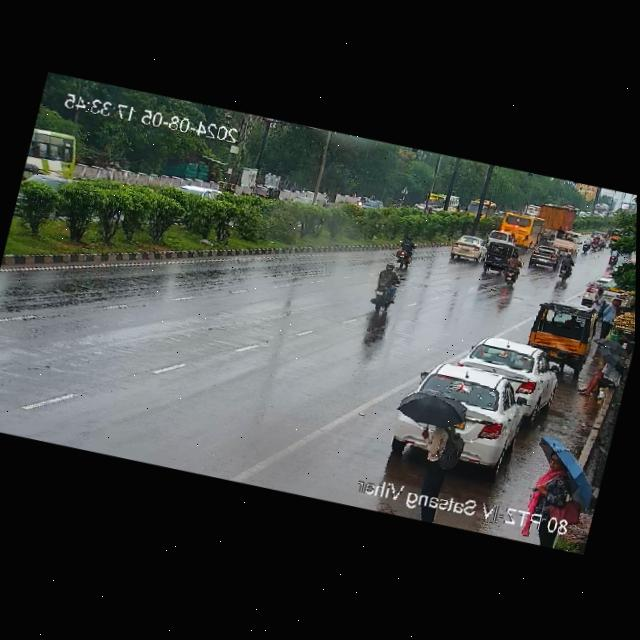bus: (23, 106, 91, 199), (501, 209, 546, 249), (423, 188, 461, 222), (465, 197, 496, 223)
car: (410, 358, 532, 448), (455, 334, 560, 415), (522, 294, 599, 367), (580, 269, 636, 311), (480, 239, 520, 279), (446, 230, 488, 264), (529, 242, 562, 272), (483, 227, 515, 248)
motorcycle: (362, 258, 405, 315), (387, 232, 420, 270), (577, 226, 613, 257), (499, 251, 525, 286), (556, 252, 577, 282), (605, 248, 620, 268)
person: (525, 441, 577, 521), (415, 418, 463, 493), (573, 351, 626, 406), (599, 298, 622, 341), (591, 288, 606, 310)
truck: (537, 201, 577, 234), (550, 228, 581, 254)
